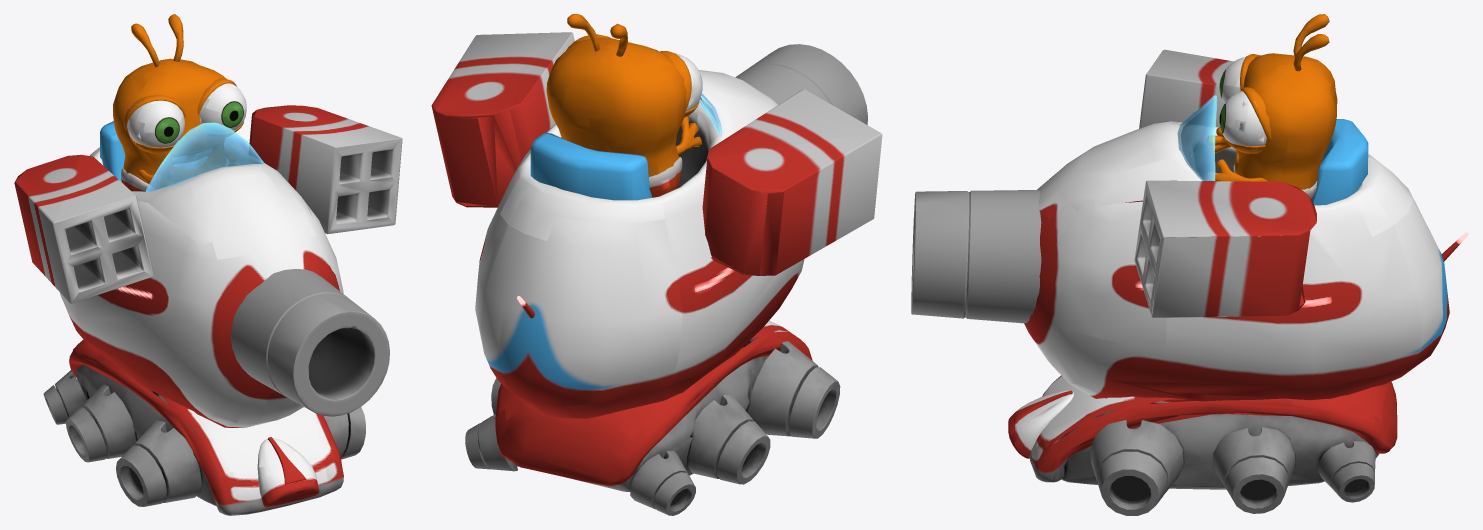
Rendered from colossus.glb.
3 renders of one model, left to right at view 1: azimuth 30°, elevation 25°; view 2: azimuth 150°, elevation 25°; view 3: azimuth 270°, elevation 25°, orthographic. The views are drawn at different scales.
Visible parts, largest first — view 1: Colossus Body 1_9, Colossus Missiles_6, Colossus Cannon._7, Starling_5, Colossus Body 2_8; view 2: Colossus Body 1_9, Colossus Missiles_6, Starling_5, Colossus Body 2_8, Colossus Cannon._7; view 3: Colossus Body 1_9, Colossus Missiles_6, Colossus Cannon._7, Colossus Body 2_8, Starling_5.
Part boxes in pixels (<box>): Colossus Body 1_9: <box>59,121,343,515</box>; Colossus Missiles_6: <box>14,105,402,303</box>; Colossus Cannon._7: <box>230,269,389,416</box>; Starling_5: <box>113,14,246,191</box>; Colossus Body 2_8: <box>43,369,365,506</box>; Colossus Body 1_9: <box>475,70,812,491</box>; Colossus Missiles_6: <box>431,32,882,275</box>; Starling_5: <box>546,14,702,197</box>; Colossus Body 2_8: <box>465,341,840,515</box>; Colossus Cannon._7: <box>735,44,867,124</box>; Colossus Body 1_9: <box>1008,95,1468,489</box>; Colossus Missiles_6: <box>1134,49,1316,317</box>; Colossus Cannon._7: <box>911,190,1041,323</box>; Colossus Body 2_8: <box>1014,390,1375,515</box>; Starling_5: <box>1206,14,1337,199</box>.
Bounding box in the file's own units: 6.99 × 7.62 × 8.8.
5 materials, 4 textured.
